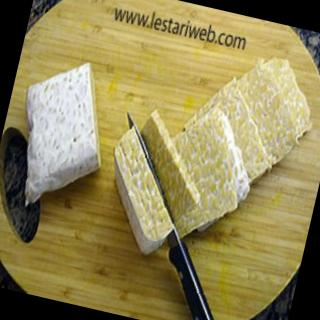Tempe: (91, 23, 320, 285), (1, 49, 125, 222)
